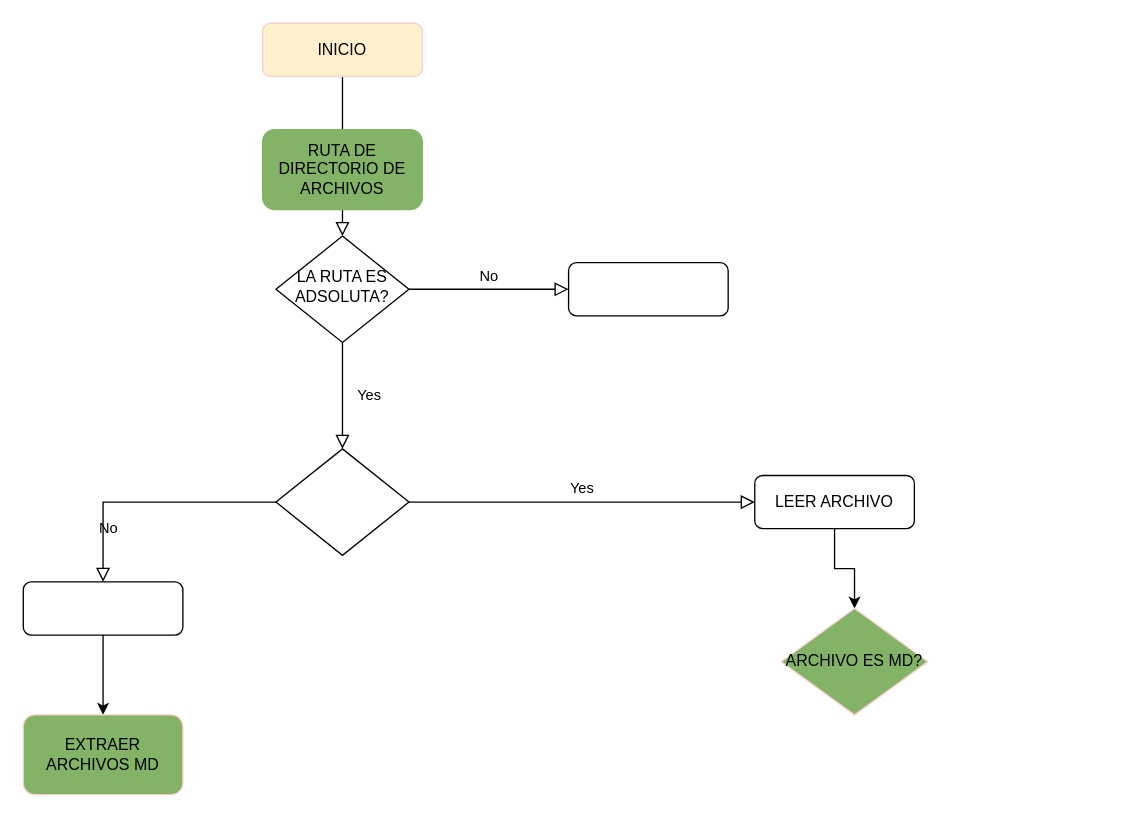
The diagram is 1141 pixels wide and 818 high, and some of its shapes have lost their labels. Here are the shapes that lost their labels. From the top down, the centre of each, then its label:
At (647,288): "CONVERTIR LA RUTA EN ADSOLUTA".
At (342,501): "LA RUTA ES UN ARCHIVO".
At (102,608): "LEER DIRECTORIO".
